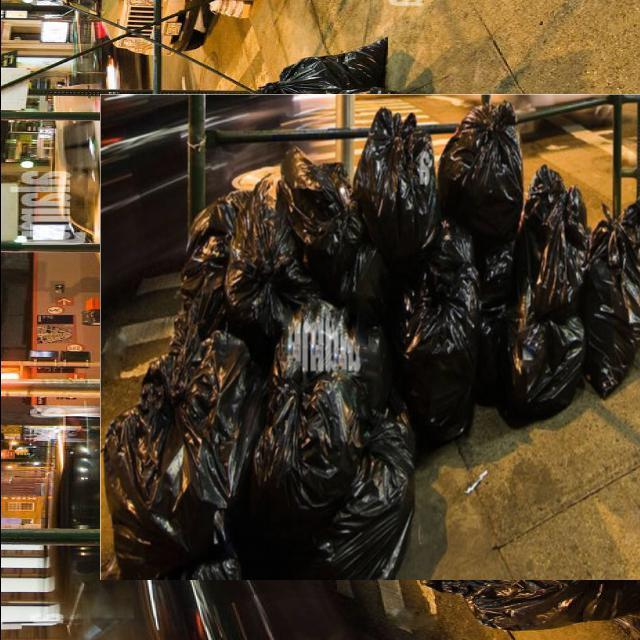Trashbag: (105, 409, 247, 579), (388, 261, 484, 435), (254, 382, 349, 511), (147, 327, 264, 431), (349, 418, 424, 563), (532, 172, 604, 318), (450, 108, 527, 242), (234, 192, 312, 318), (363, 127, 441, 249), (294, 293, 380, 401), (514, 303, 582, 429), (182, 206, 238, 333), (597, 234, 640, 383), (286, 153, 348, 247)
